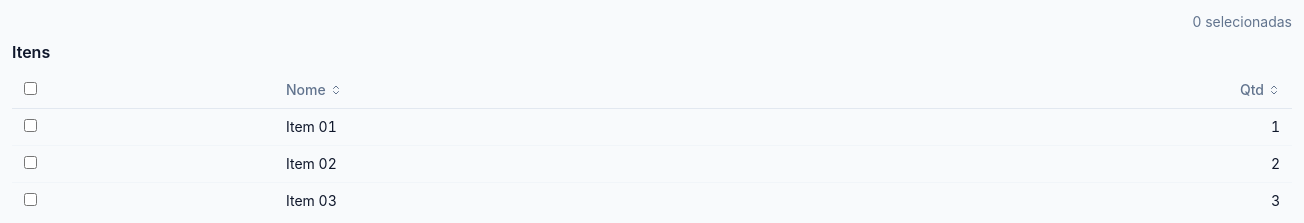
DataTable selection › selects rows, counts them and reports the selected data
The width and height of the screenshot is (1304, 223).
Expected: the message reads "0 selecionadas", x1=1192 y1=13 x2=1292 y2=30
Click the checkbox named "Selecionar linha 2". click: (30, 162)
box: x1=24 y1=156 x2=37 y2=169
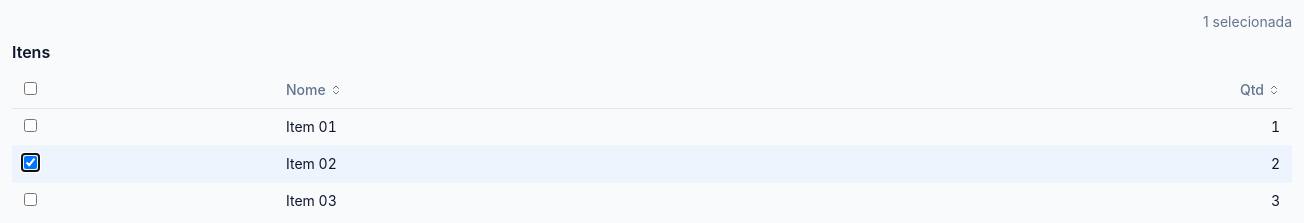
Expected: the message reads "1 selecionada", x1=1203 y1=13 x2=1292 y2=30
Click the checkbox named "Selecionar todas as linhas". click: (30, 88)
box: x1=24 y1=82 x2=37 y2=95
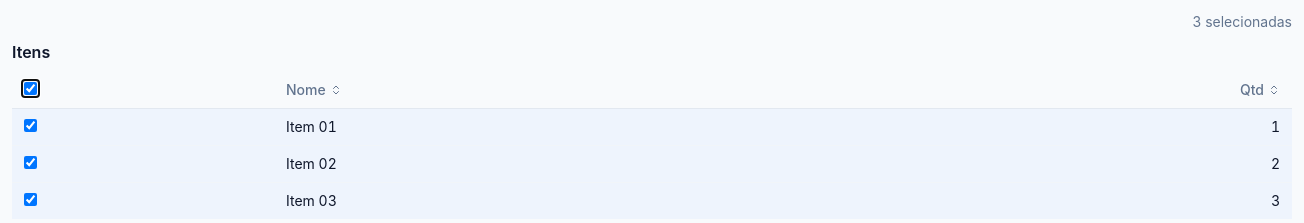
Expected: the message reads "3 selecionadas", x1=1193 y1=13 x2=1292 y2=30
